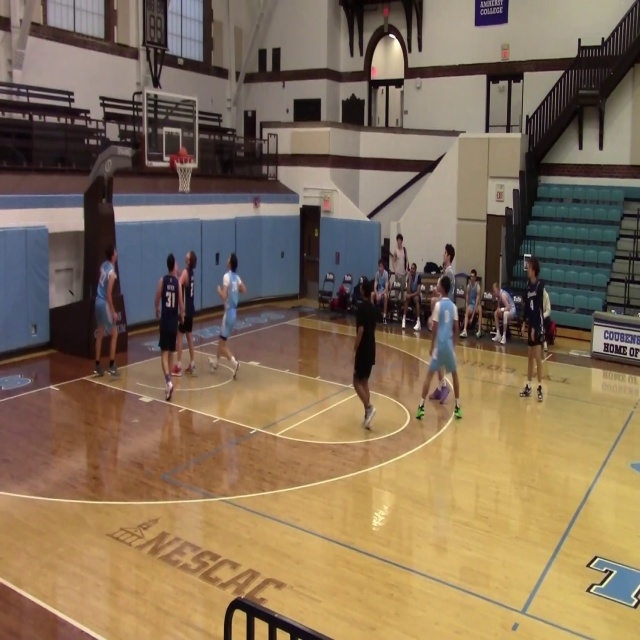Basketball: (185, 251, 197, 268), (429, 387, 442, 400), (172, 363, 181, 374), (179, 146, 188, 157)
